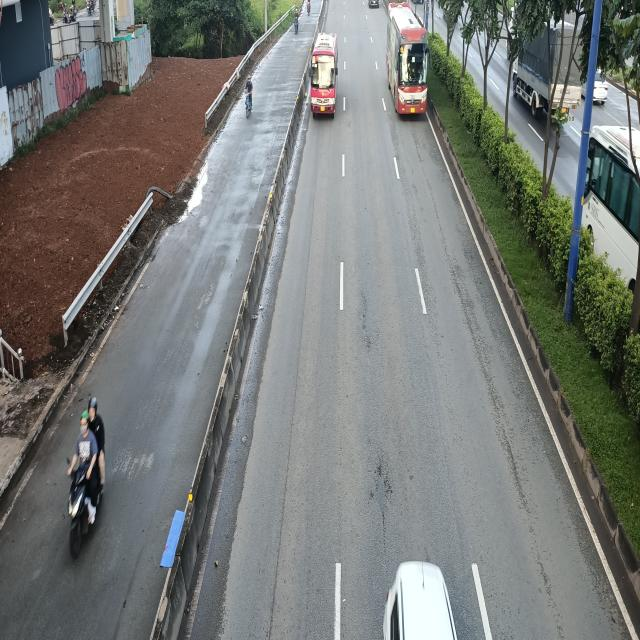coach: (384, 3, 426, 118), (310, 32, 341, 117)
